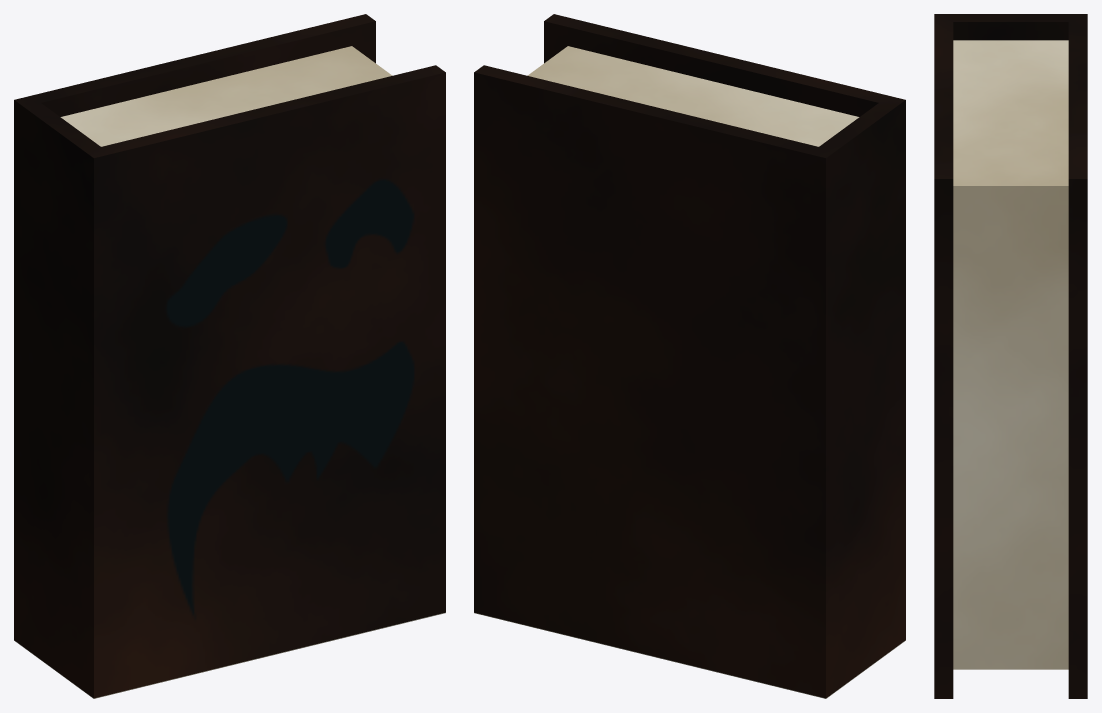
The model's file is book.glb.
The picture shows the model from 3 angles, left to right: view 1: azimuth 30°, elevation 25°; view 2: azimuth 150°, elevation 25°; view 3: azimuth 270°, elevation 25°; orthographic projection. The views are drawn at different scales.
Visible parts, largest first — view 1: Cube; view 2: Cube; view 3: Cube.
Part boxes in pixels (x1=…): Cube: x1=14, y1=14, x2=445, y2=698; Cube: x1=474, y1=14, x2=905, y2=698; Cube: x1=934, y1=14, x2=1087, y2=698.
Size of the model in its own units: 2.06 by 3.03 by 0.8103.
Materials: 1 (1 with a texture image).
